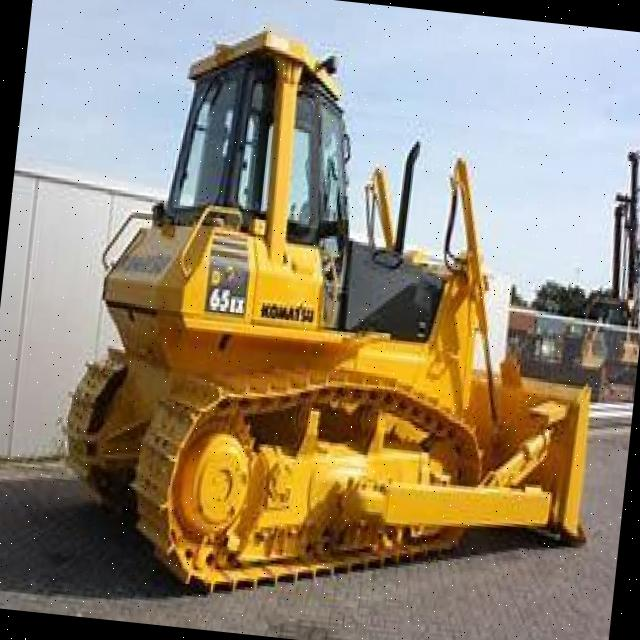Bulldozer: (33, 1, 640, 614)
